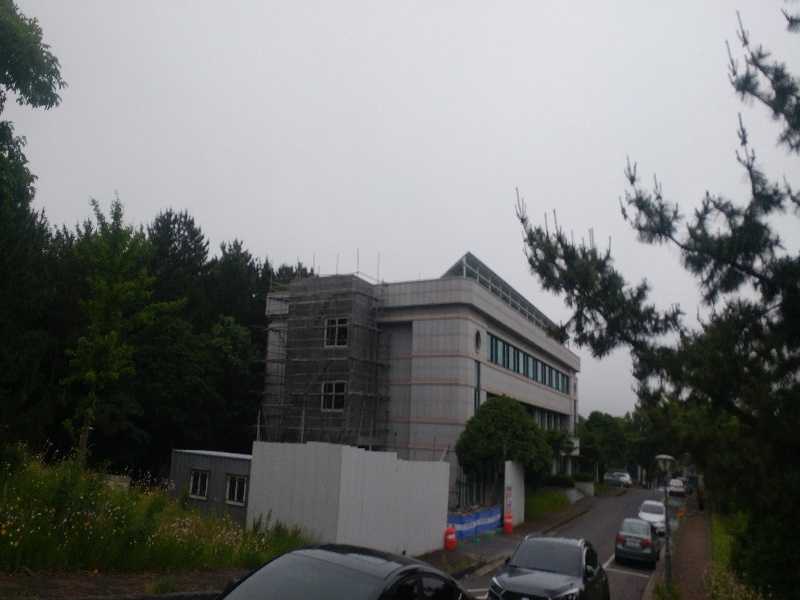Information Telecommunication Center: (268, 284, 582, 451), (382, 285, 575, 444)
